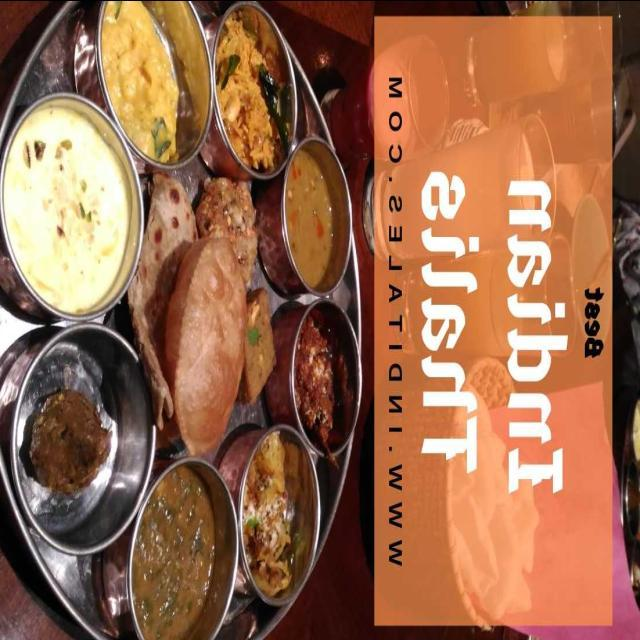rice: (3, 100, 133, 324)
roti: (130, 171, 202, 345)
sweet: (210, 14, 290, 170), (282, 303, 358, 451)
veg-fry: (2, 328, 149, 550), (120, 447, 242, 638), (276, 135, 356, 291), (284, 298, 356, 460)
